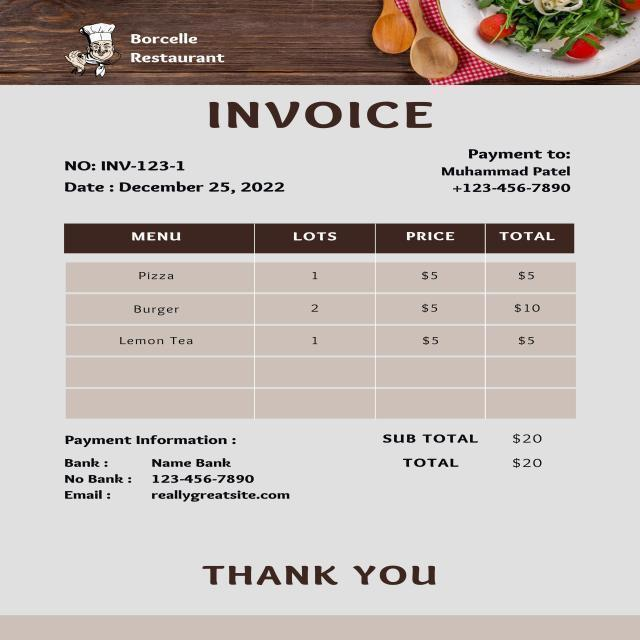paragraph: (51, 427, 316, 518), (166, 551, 477, 602), (367, 421, 578, 488), (204, 91, 448, 142), (49, 158, 315, 204), (57, 14, 237, 79), (427, 145, 587, 204)
table: (51, 211, 587, 401)
